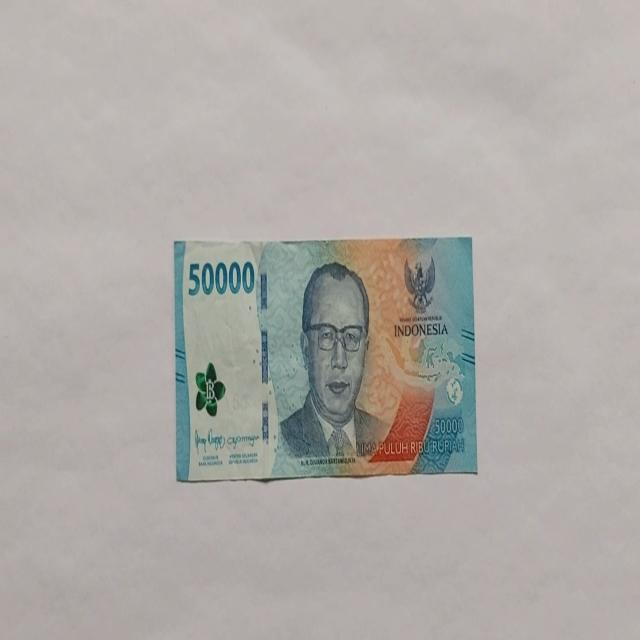lima puluh ribu rupiah: (173, 234, 477, 483), (273, 259, 393, 466)
